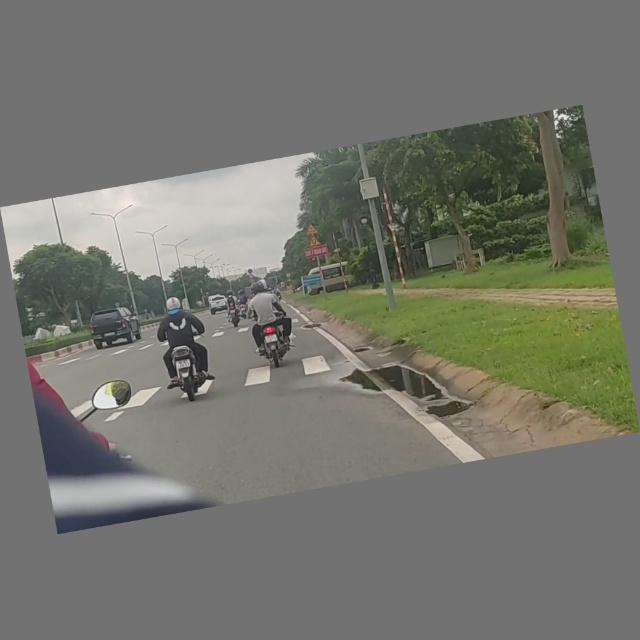W.245a: (305, 223, 319, 236)
W.246a: (308, 236, 322, 248)
